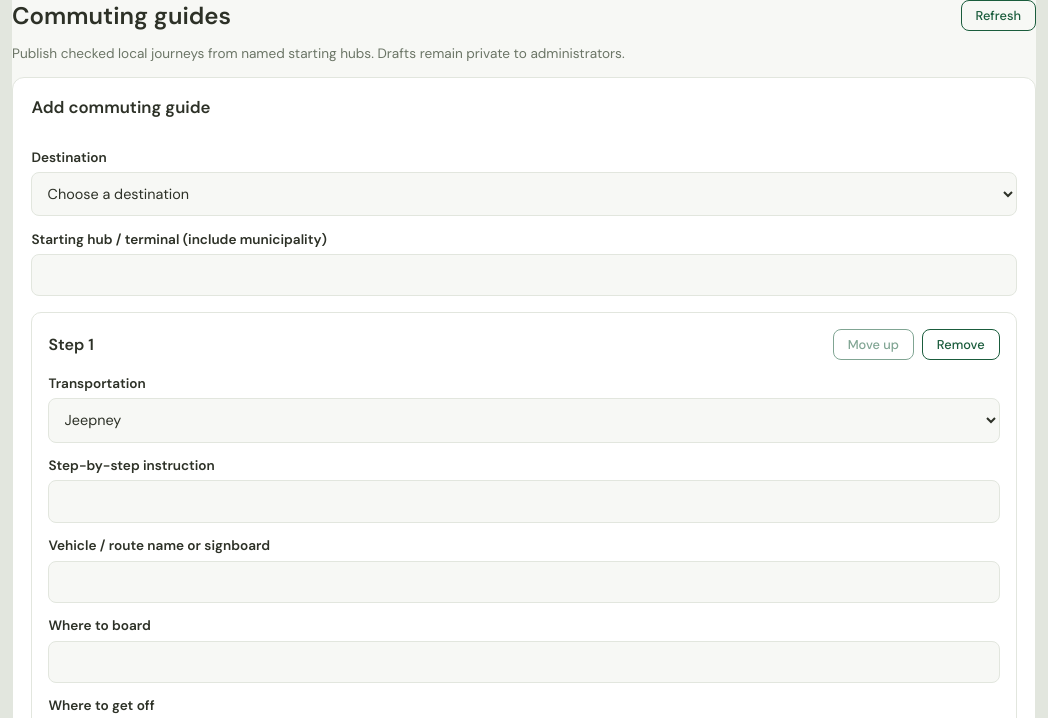
unfinished instructions can be saved as private drafts
Step 1. Select "Test spot" in the dropdown labelled "Destination" → (524, 194), box [31,172,1017,216]
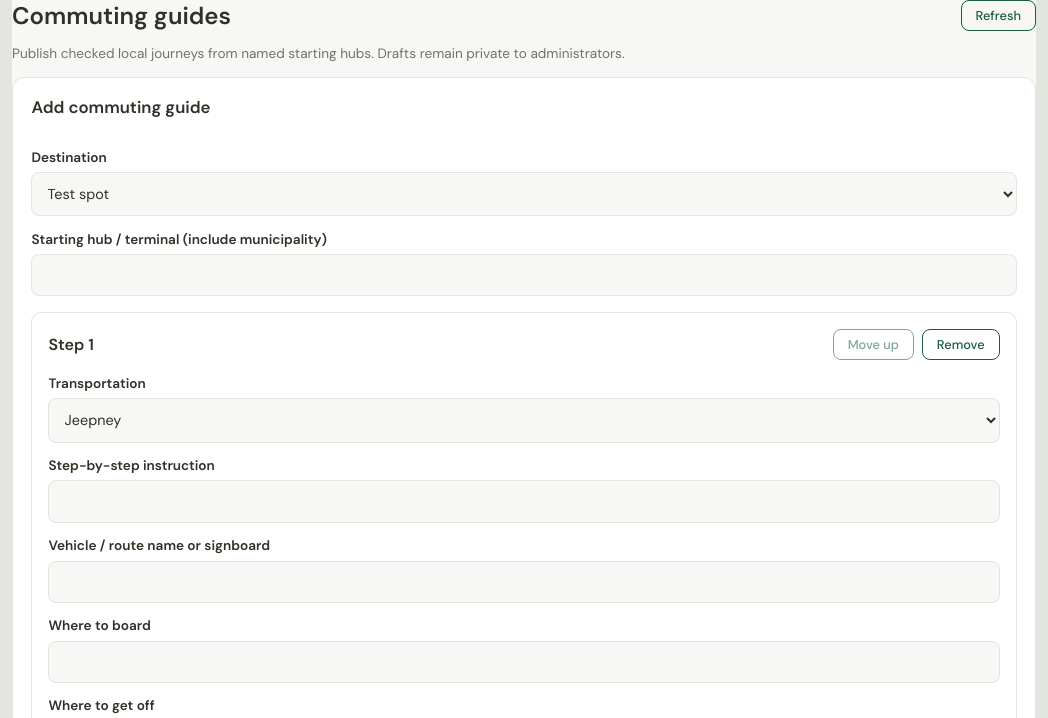
Step 2. Type "Test terminal" into the field labelled "Starting hub / terminal (include municipality)" → (524, 275), box [31,254,1017,296]
(page scrolled)
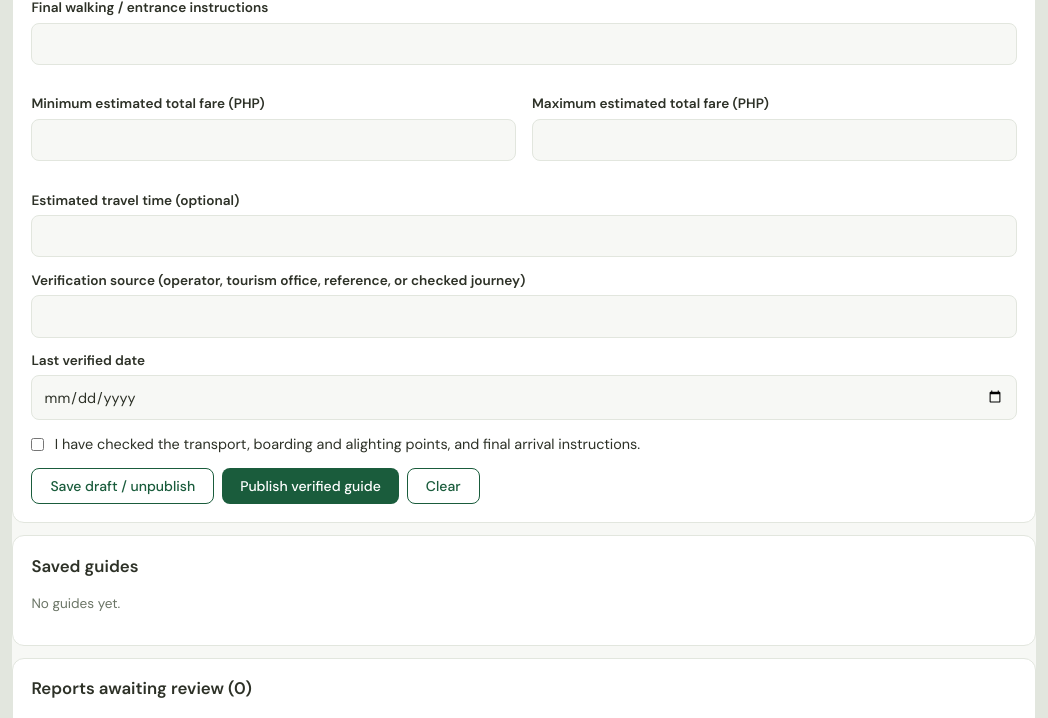
Step 3. Click the button "Save draft / unpublish" → (123, 486), box [31,468,214,504]
(page scrolled)
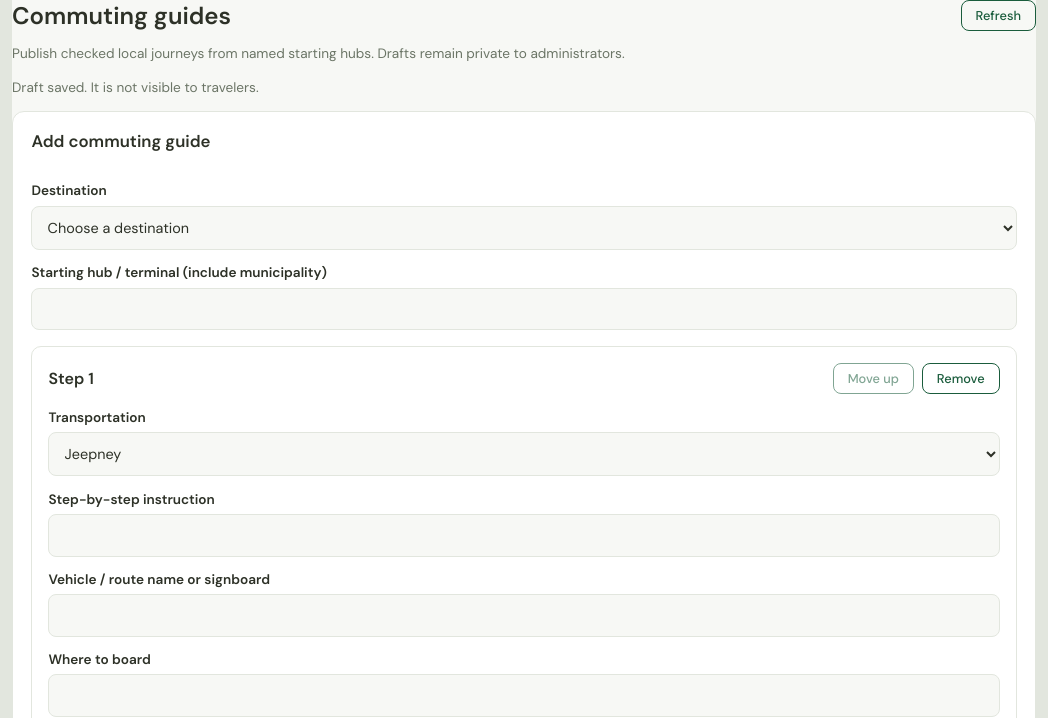
Check: the message shows "Draft saved", box [12,79,259,96]
